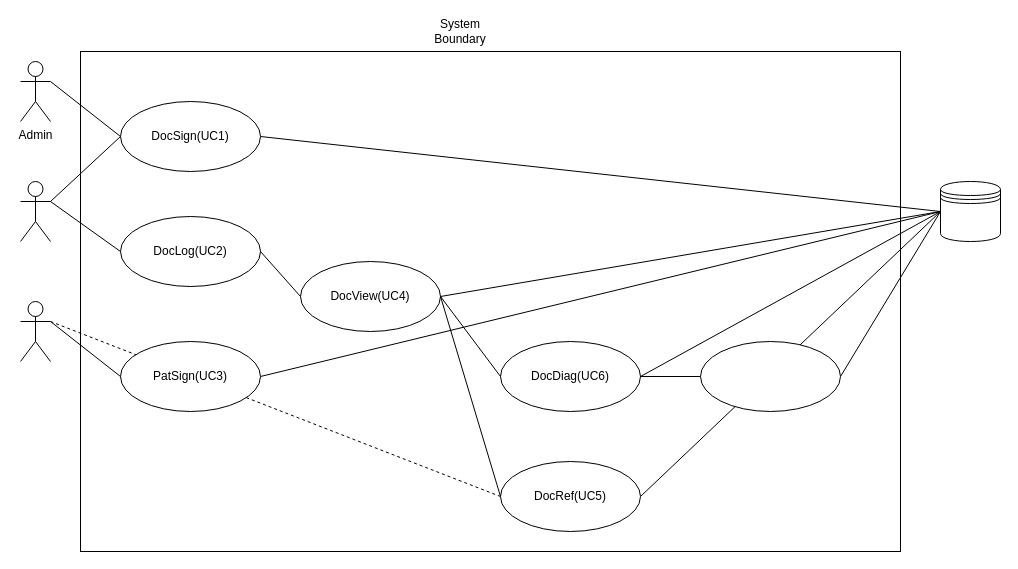
This 1018x569 diagram has some shape labels left out. Here are the shapes that lost their labels. From the top down, the box of each, then its label:
(20, 180, 50, 242): Doctor
(940, 180, 1000, 242): Data Storage
(20, 300, 50, 362): Patient
(700, 340, 840, 412): DocScrip(UC7)
